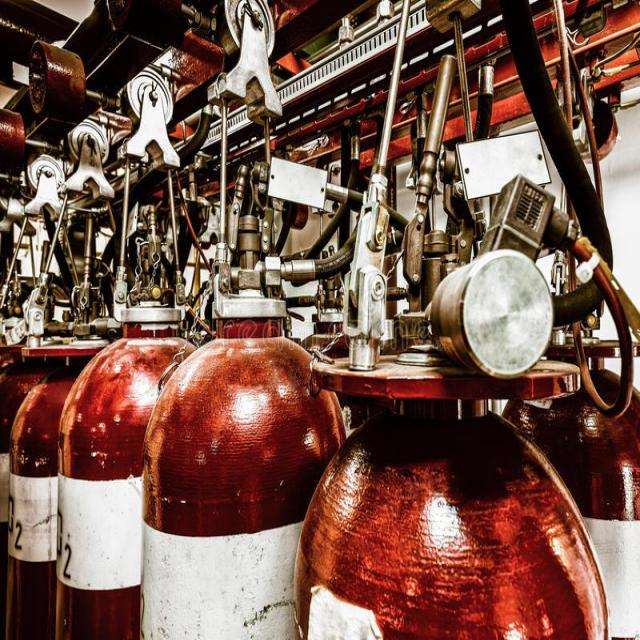fire_extinguisher: (288, 179, 630, 639), (132, 162, 362, 639), (53, 206, 229, 639), (484, 218, 638, 639), (2, 240, 148, 639)
